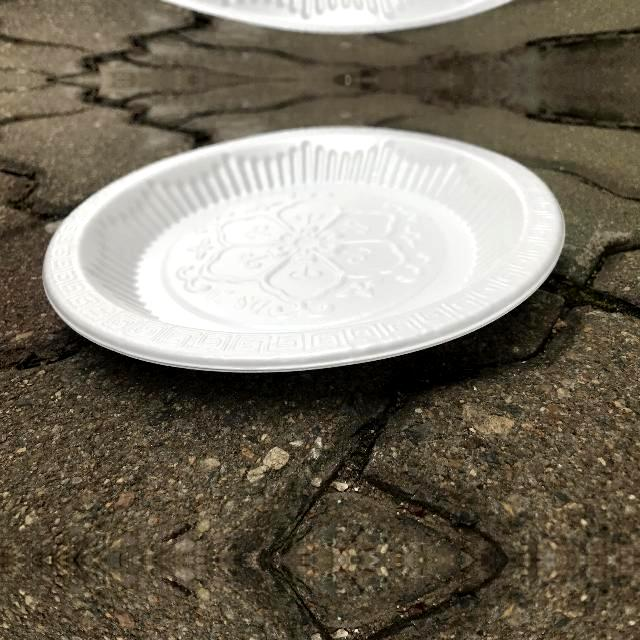Styrofoam: (42, 124, 566, 374), (42, 126, 566, 372)
